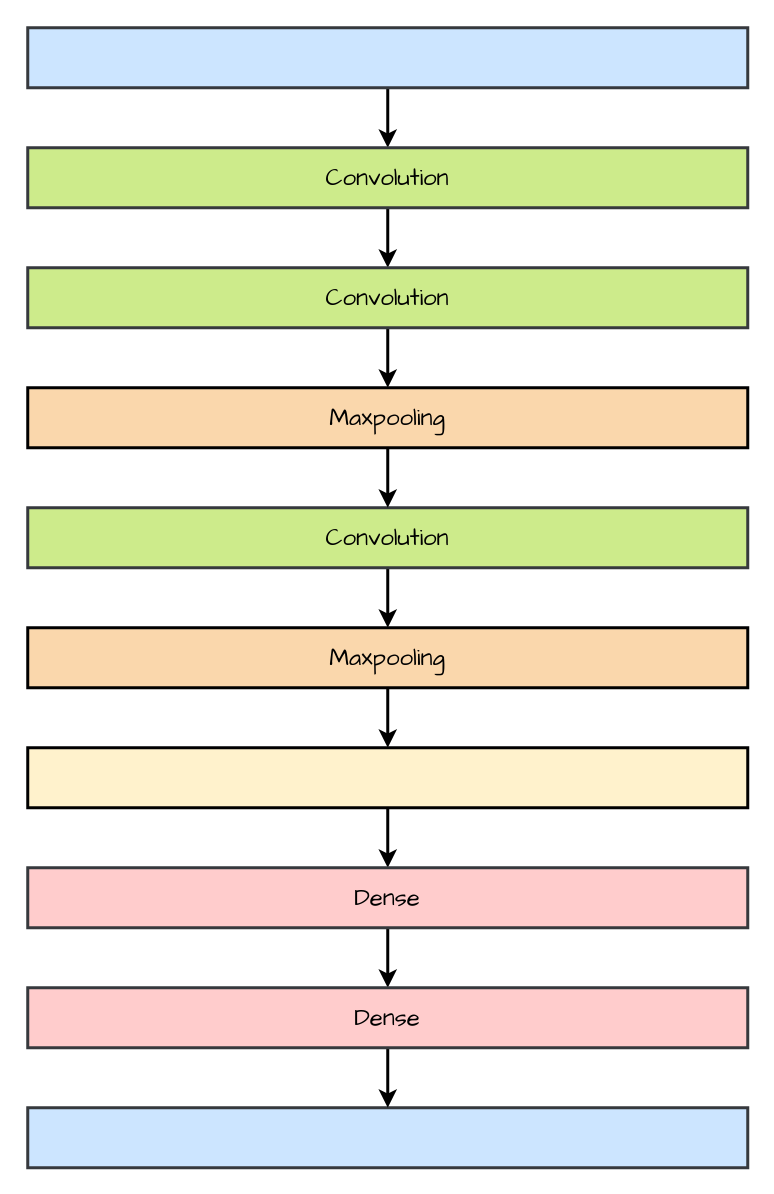
This 774x1194 diagram has some shape labels left out. The shapes that lost their labels are listed below. From the top down, each one's centre as x and y in pixels, then its label:
the point at 387,57: Input
the point at 387,777: Flatten
the point at 387,1137: Output
